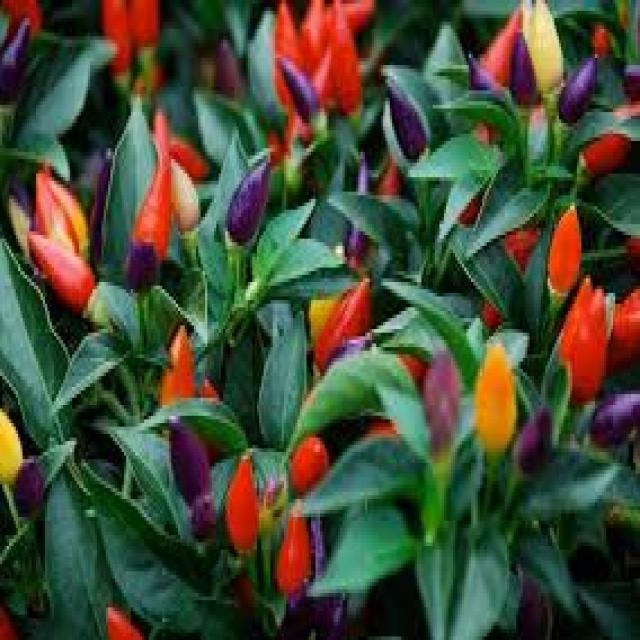hot pepper: (252, 0, 373, 137), (545, 269, 640, 441), (21, 162, 112, 317), (72, 0, 189, 119), (116, 126, 185, 305), (307, 247, 388, 365), (374, 63, 442, 178), (469, 326, 524, 467), (568, 94, 640, 195), (156, 398, 216, 503), (268, 476, 315, 610), (225, 138, 283, 245), (226, 438, 272, 565), (1, 444, 61, 539), (453, 38, 512, 127), (512, 389, 566, 484), (542, 189, 584, 305), (0, 0, 47, 101), (282, 425, 344, 497), (95, 593, 189, 640), (499, 19, 541, 124), (554, 47, 601, 137)
